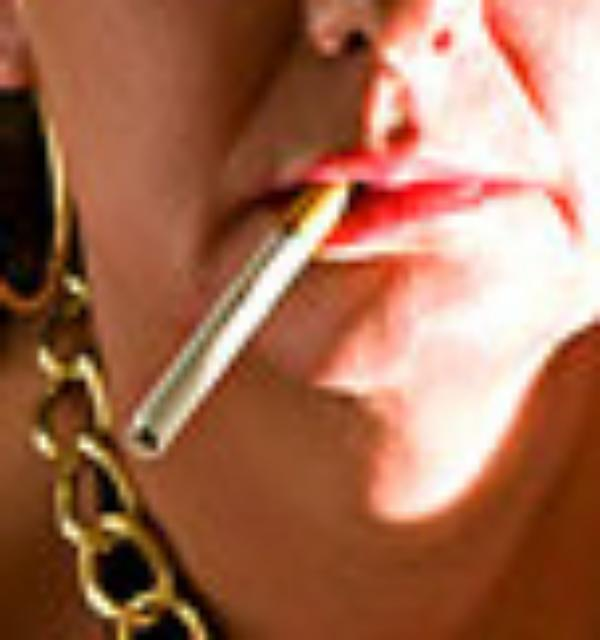Cigarette: (130, 172, 351, 460)
